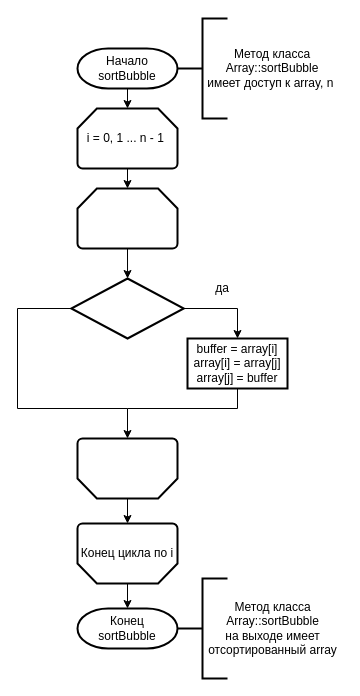
Image size: 360x696. Some labels were removed from this diagram. Each missing label, with the box of its shape:
array[i] > array[j]: (70, 277, 184, 339)
j = 0, 1 ... n: (76, 187, 178, 249)
Конец цикла по j: (76, 437, 178, 499)
